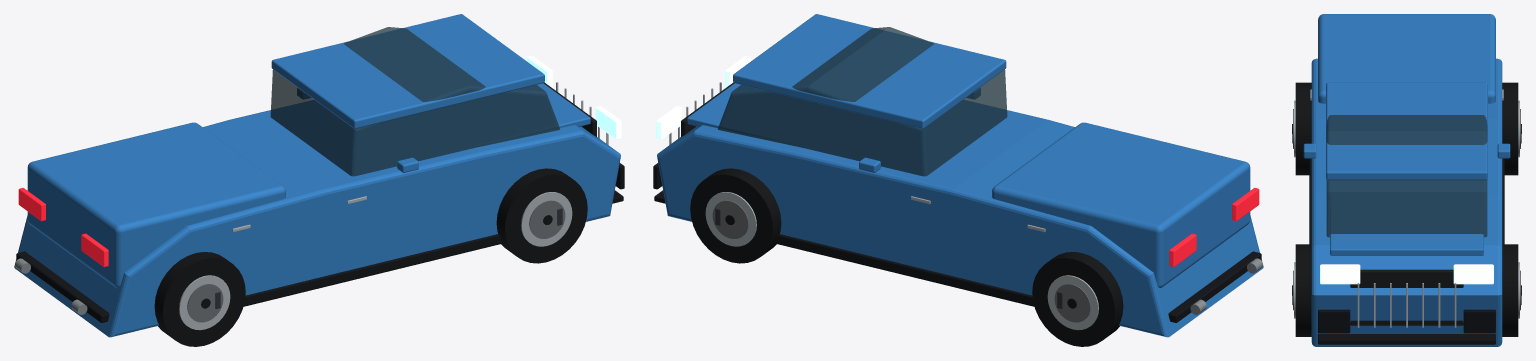
The model's file is ford_ranger_raptor.glb.
3 views of the same model, side by side, from view 1: azimuth 30°, elevation 25°; view 2: azimuth 150°, elevation 25°; view 3: azimuth 270°, elevation 25° (orthographic). The views are drawn at different scales.
Visible parts, largest first — view 1: sculpted_body, pickup_bed, cab, cab_roof, hood_center, rear_right_wheel_tire, front_right_wheel_tire, side_skirt_1, rear_diffuser, rear_right_wheel_rim, front_right_wheel_rim, rear_right_wheel_disc (+4 smaller); view 2: sculpted_body, pickup_bed, cab, cab_roof, hood_center, rear_left_wheel_tire, front_left_wheel_tire, side_skirt_-1, rear_diffuser, rear_left_wheel_rim, front_left_wheel_rim, rear_left_wheel_disc (+4 smaller); view 3: cab_roof, sculpted_body, cab, pickup_bed, hood_center, front_grille, front_splitter, front_left_wheel_tire, front_right_wheel_tire, rear_left_wheel_tire, rear_right_wheel_tire, headlight_left (+7 smaller).
Part boxes in pixels (left/top/right/bottom): sculpted_body: left=14, top=100, right=620, bottom=337; pickup_bed: left=27, top=122, right=285, bottom=287; cab: left=270, top=27, right=559, bottom=176; cab_roof: left=271, top=14, right=544, bottom=128; hood_center: left=399, top=83, right=590, bottom=151; rear_right_wheel_tire: left=154, top=252, right=245, bottom=346; front_right_wheel_tire: left=496, top=168, right=587, bottom=263; side_skirt_1: left=243, top=234, right=502, bottom=306; rear_diffuser: left=16, top=251, right=109, bottom=322; rear_right_wheel_rim: left=179, top=275, right=230, bottom=330; front_right_wheel_rim: left=521, top=192, right=572, bottom=246; rear_right_wheel_disc: left=187, top=284, right=223, bottom=322; sculpted_body: left=657, top=100, right=1263, bottom=337; pickup_bed: left=992, top=122, right=1250, bottom=287; cab: left=718, top=27, right=1007, bottom=176; cab_roof: left=733, top=14, right=1006, bottom=128; hood_center: left=687, top=83, right=878, bottom=151; rear_left_wheel_tire: left=1032, top=252, right=1123, bottom=346; front_left_wheel_tire: left=690, top=168, right=781, bottom=263; side_skirt_-1: left=775, top=234, right=1034, bottom=306; rear_diffuser: left=1168, top=251, right=1261, bottom=322; rear_left_wheel_rim: left=1047, top=275, right=1098, bottom=330; front_left_wheel_rim: left=705, top=192, right=756, bottom=246; rear_left_wheel_disc: left=1054, top=284, right=1090, bottom=322; cab_roof: left=1326, top=82, right=1487, bottom=180; sculpted_body: left=1311, top=58, right=1502, bottom=346; cab: left=1326, top=115, right=1487, bottom=237; pickup_bed: left=1318, top=14, right=1495, bottom=103; hood_center: left=1330, top=181, right=1483, bottom=255; front_grille: left=1350, top=269, right=1463, bottom=325; front_splitter: left=1318, top=334, right=1495, bottom=344; front_left_wheel_tire: left=1502, top=244, right=1518, bottom=336; front_right_wheel_tire: left=1295, top=244, right=1311, bottom=336; rear_left_wheel_tire: left=1502, top=82, right=1518, bottom=175; rear_right_wheel_tire: left=1295, top=82, right=1311, bottom=175; headlight_left: left=1453, top=264, right=1493, bottom=284.
Bounding box in the file's own units: 6.08 × 1.94 × 2.33.
